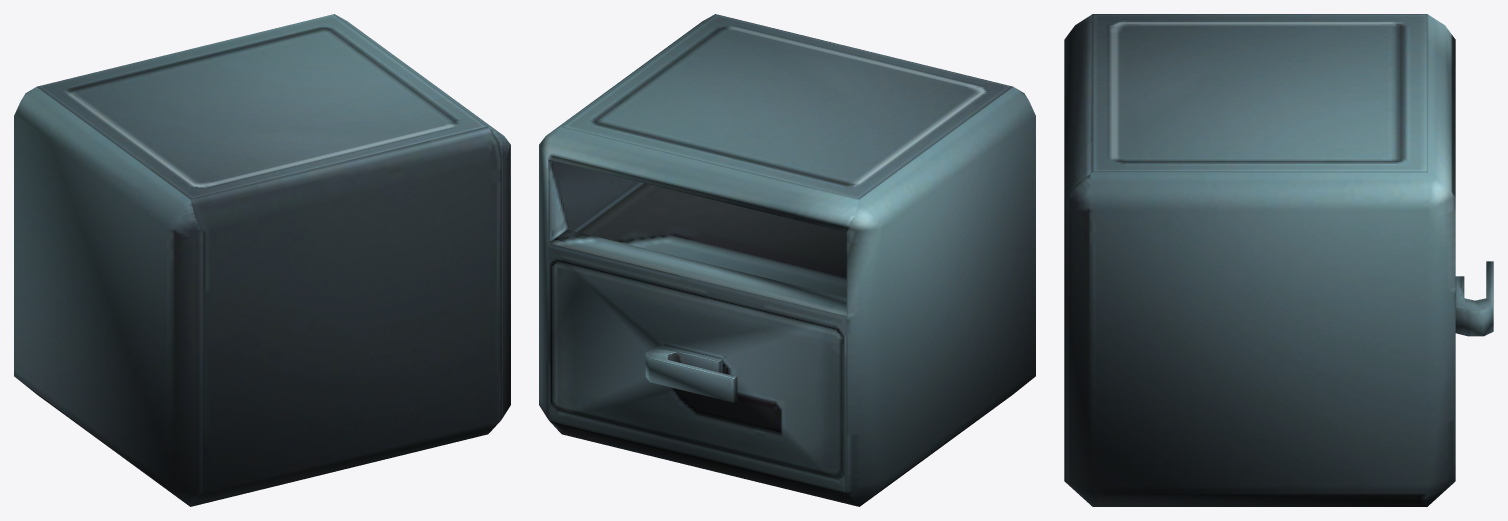
Rendered from chest3.glb.
3 views of the same model, side by side, from view 1: azimuth 30°, elevation 25°; view 2: azimuth 150°, elevation 25°; view 3: azimuth 270°, elevation 25° (orthographic). The views are drawn at different scales.
Visible parts, largest first — view 1: Box10; view 2: Box10; view 3: Box10.
Part boxes in pixels (x1=…): Box10: x1=14, y1=14, x2=510, y2=506; Box10: x1=539, y1=14, x2=1035, y2=506; Box10: x1=1064, y1=14, x2=1493, y2=506.
Bounding box in the file's own units: 27.07 × 23.21 × 26.97.
1 material, 1 textured.
